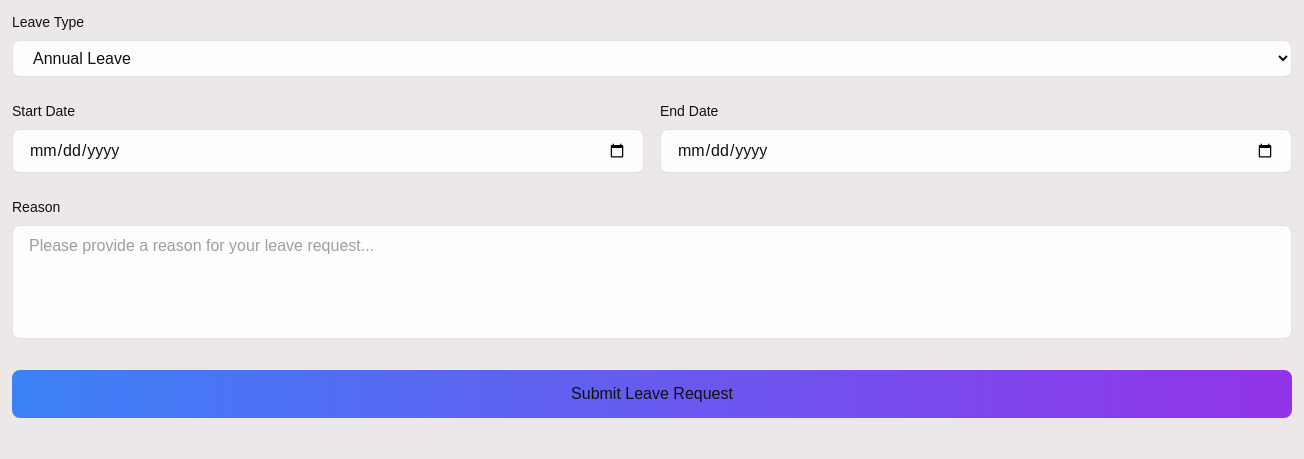
Test case: LeaveRequestForm › Form Validation › should show error when reason is empty
The width and height of the screenshot is (1304, 459).
In the date field labelled "Start Date": (328, 151) [12, 129, 644, 173], type "2024-12-01"
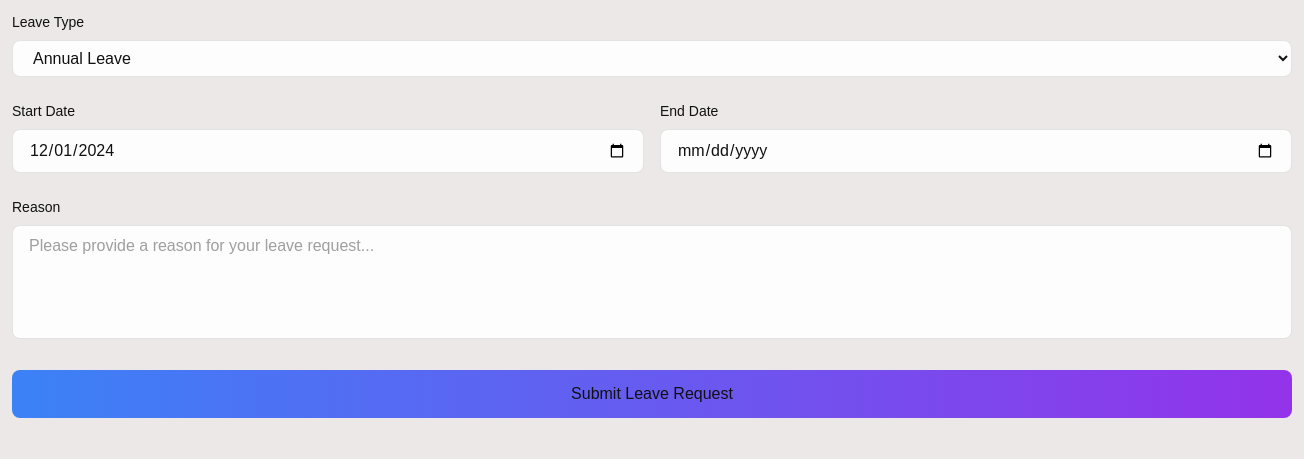
In the date field labelled "End Date": (976, 151) [660, 129, 1292, 173], type "2024-12-05"
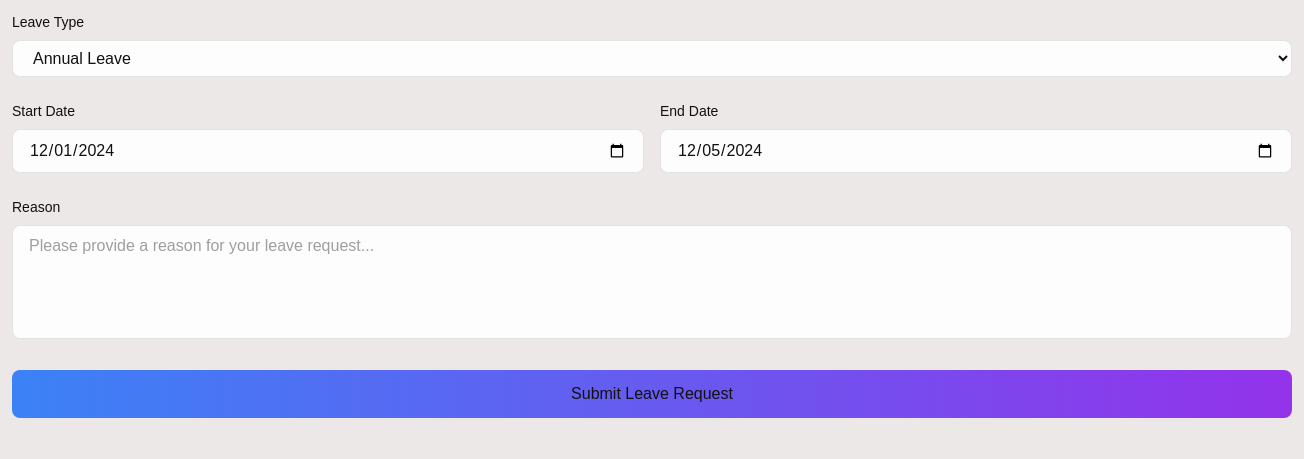
Click the button "Submit Leave Request": (652, 394) [12, 370, 1292, 418]
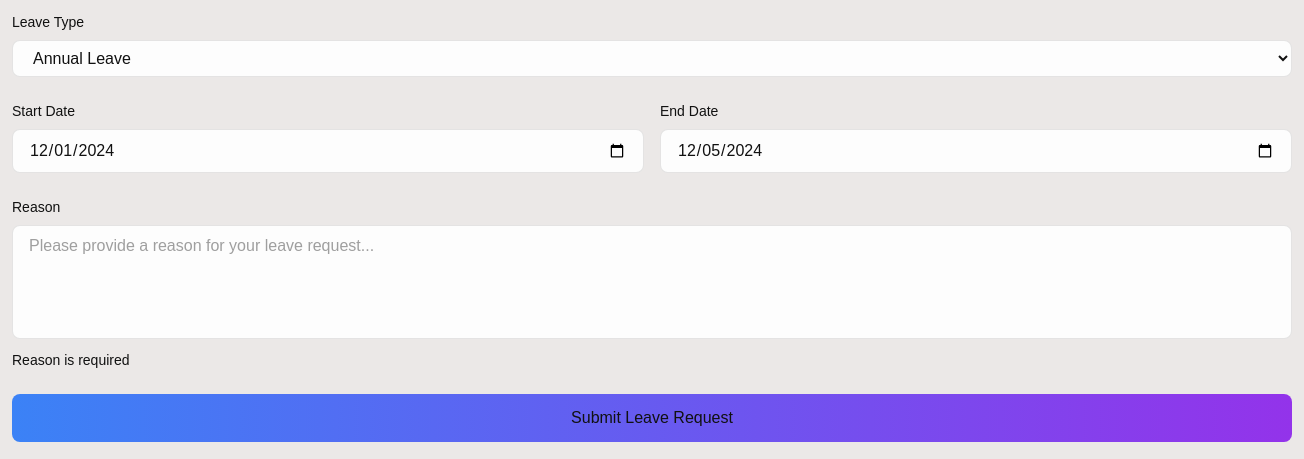
expect the text "Reason is required" is shown: met, box [12, 352, 130, 368]
